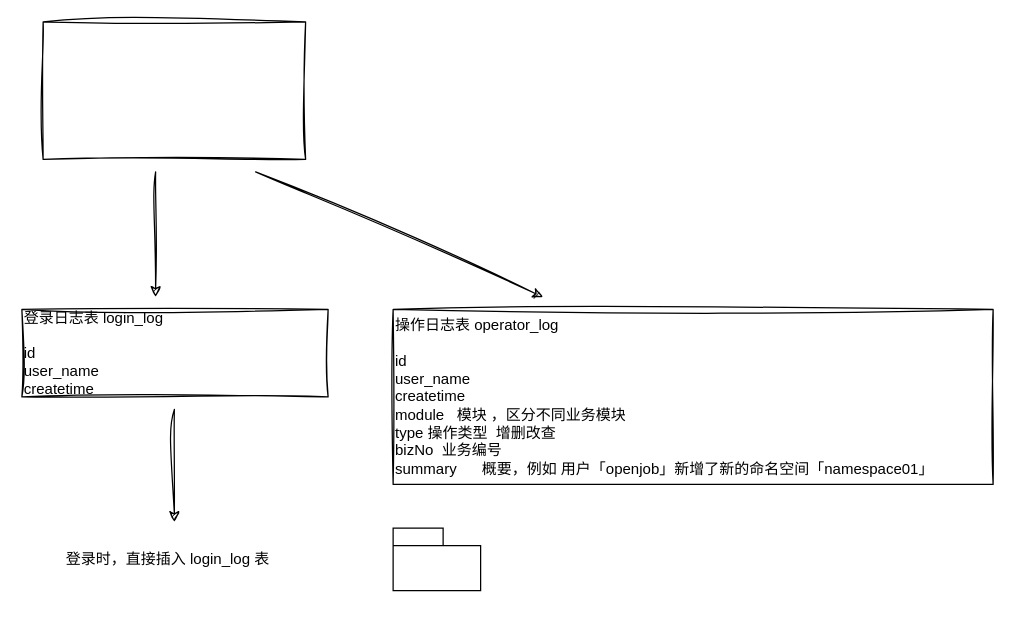
This 1015x619 diagram has some shape labels left out. The shapes that lost their labels are listed below. From the top down, each one's centre as x and y in pixels, then its label:
At [174,90]: "1. 增加一个菜单 “审计日志” 包含2个子菜单： “登录日志” “操作日志”".
At [436,559]: "log".
